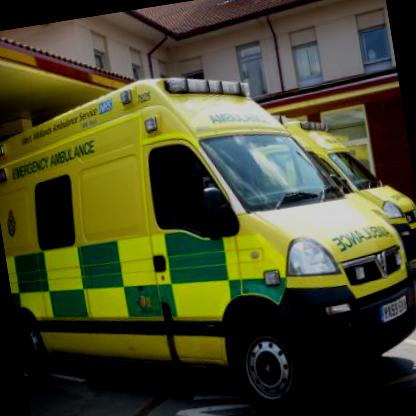truck: (0, 38, 415, 415), (275, 97, 415, 284)
